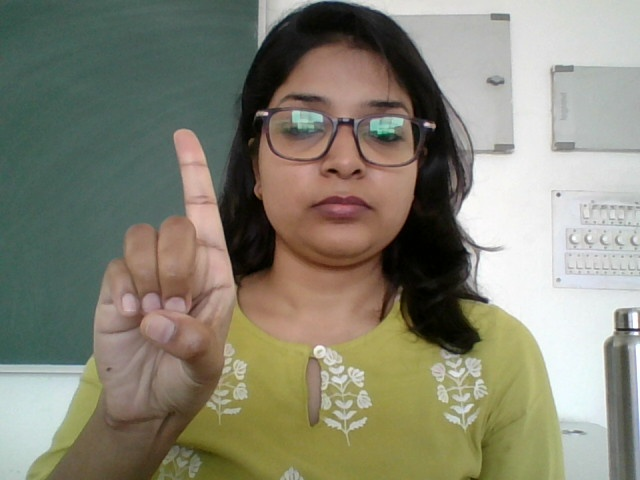D: (84, 125, 246, 419)
